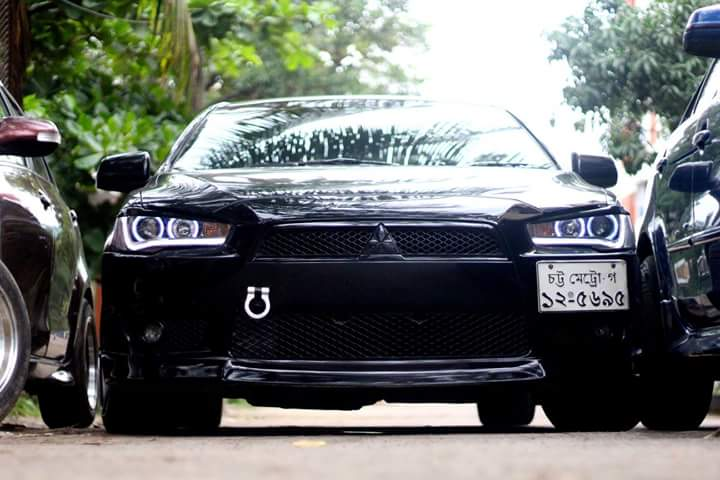registration_plate: (536, 259, 630, 312)
